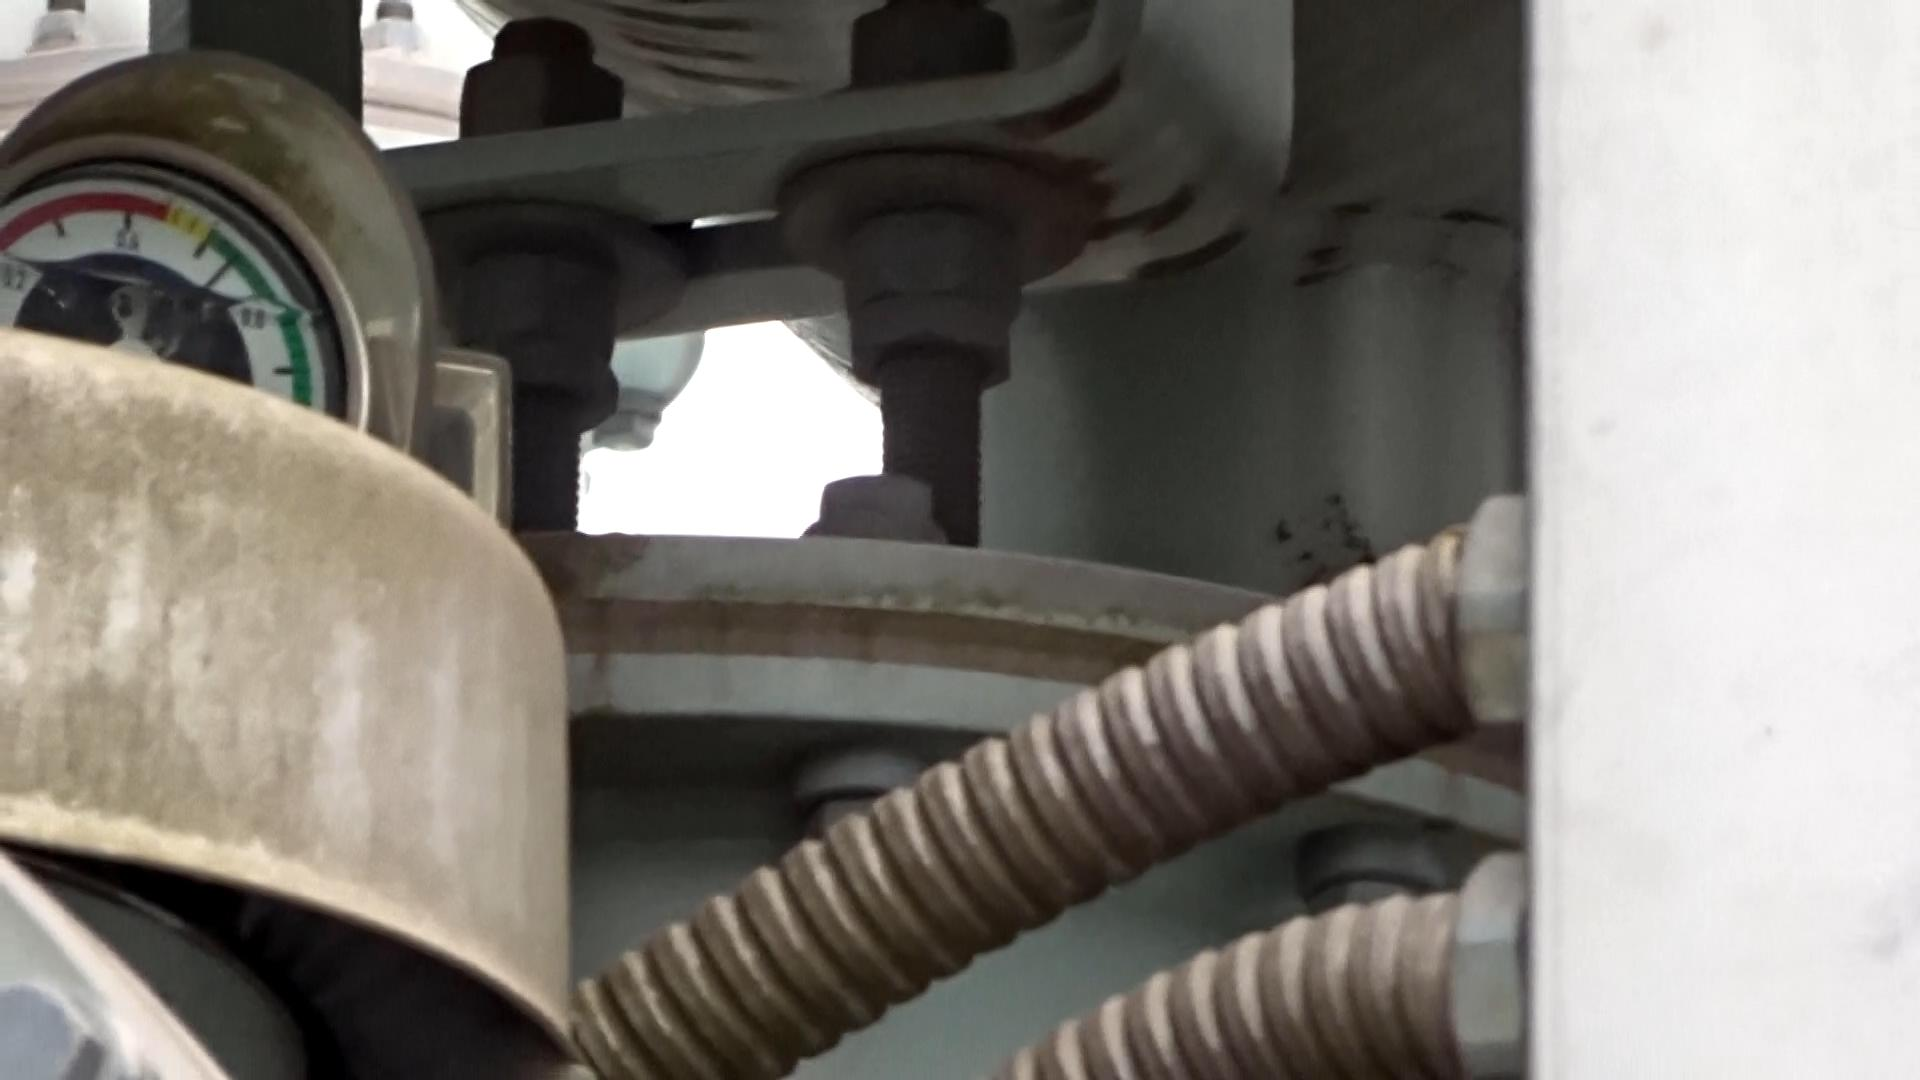instrument: (1, 161, 334, 413), (0, 0, 150, 150), (150, 150, 301, 301), (301, 301, 450, 450)
